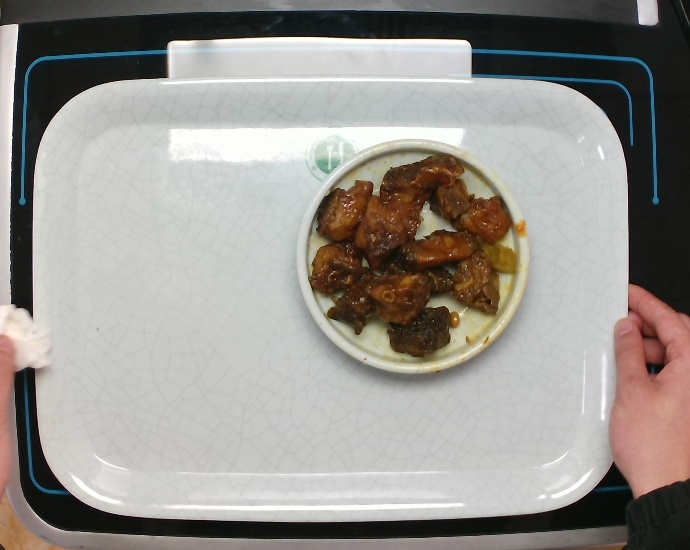JYsf-Xiao_Yuan_Pan: (293, 132, 537, 382)
